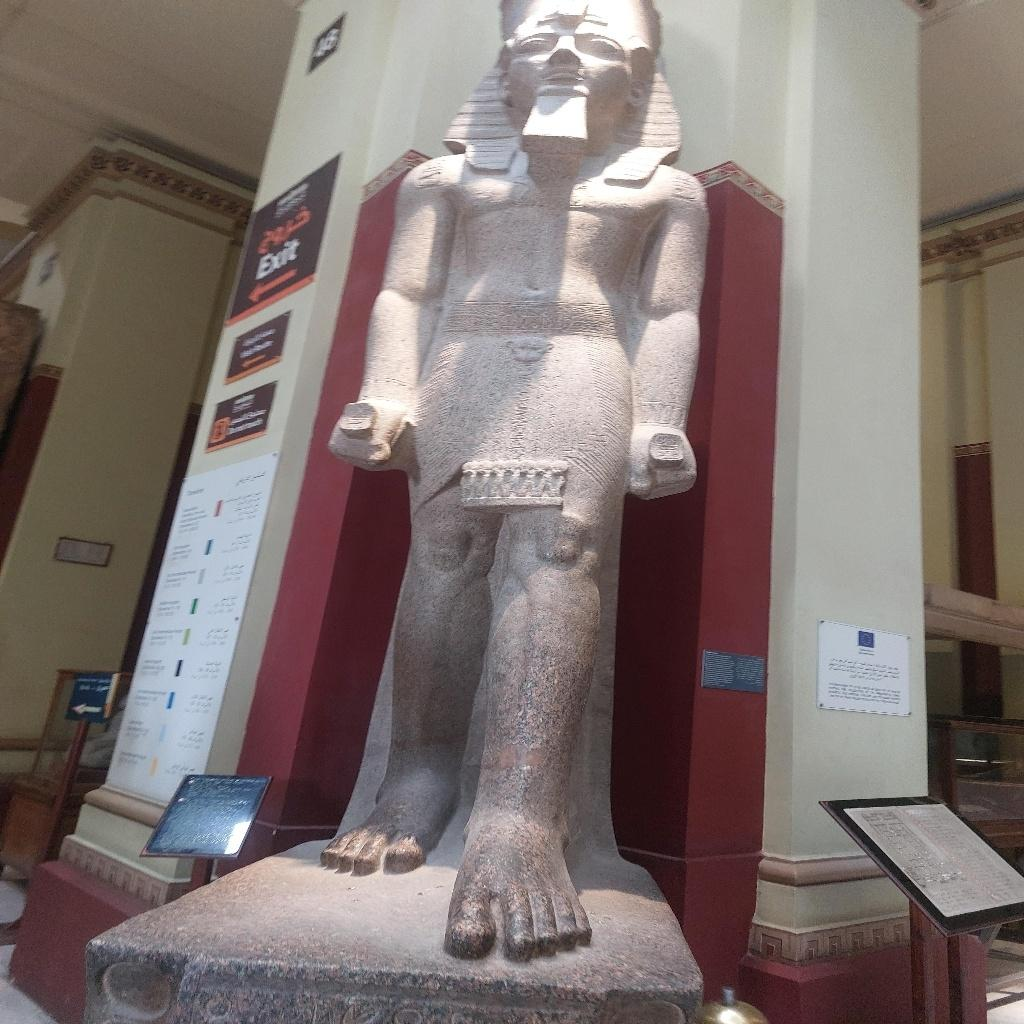Colossal Statue of Ramesses II: (314, 2, 716, 964)
